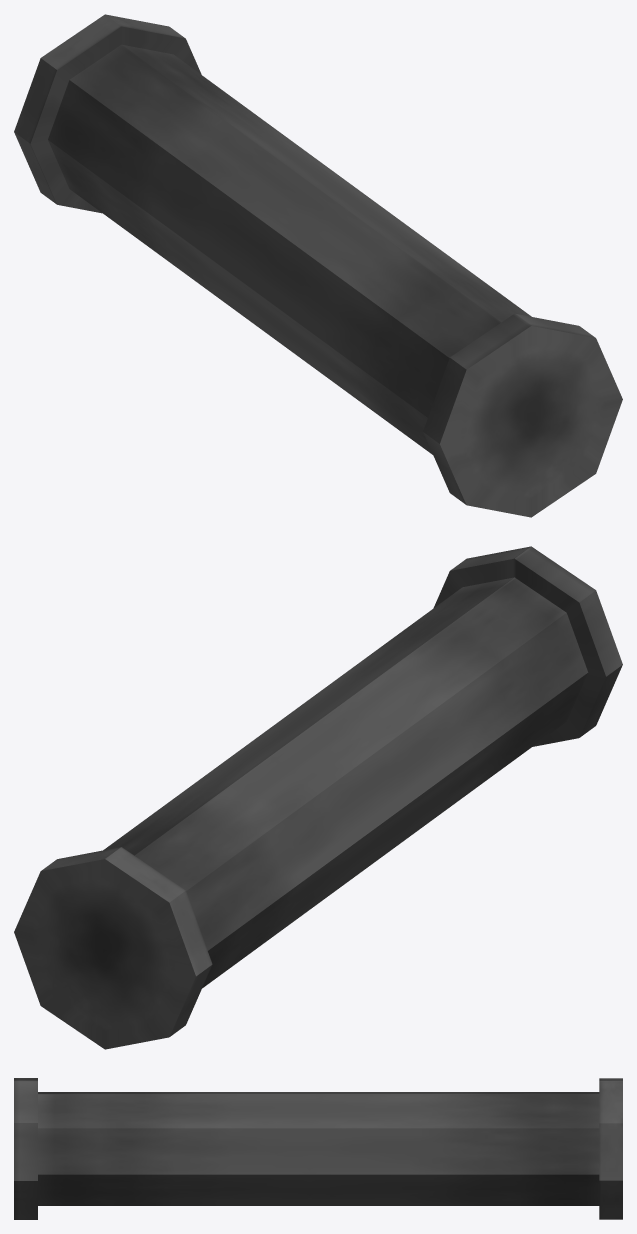
Rendered from pipe_double.obj.
3 renders of one model, top to bottom at view 1: azimuth 30°, elevation 25°; view 2: azimuth 150°, elevation 25°; view 3: azimuth 270°, elevation 25°, orthographic. The views are drawn at different scales.
Parts seen in each view (by area): view 1: pipe_double; view 2: pipe_double; view 3: pipe_double.
Part boxes in pixels (x1,y1,x2,y2): pipe_double: (14,14,622,517); pipe_double: (14,546,622,1049); pipe_double: (14,1078,622,1219).
Size of the model in its own units: 0.124 by 0.124 by 0.5.
